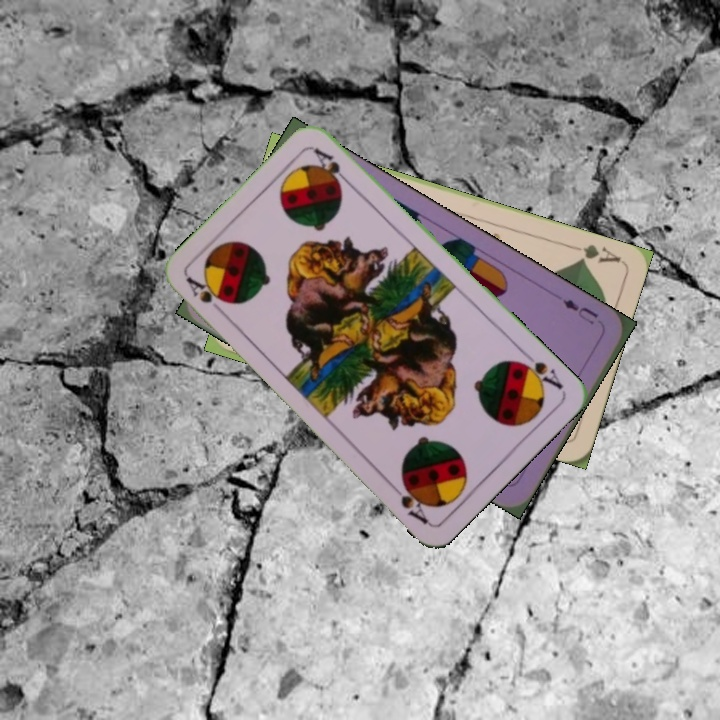EU: (558, 295, 601, 327)
GA: (565, 240, 624, 265)
SA: (512, 347, 567, 393), (182, 273, 230, 320)
